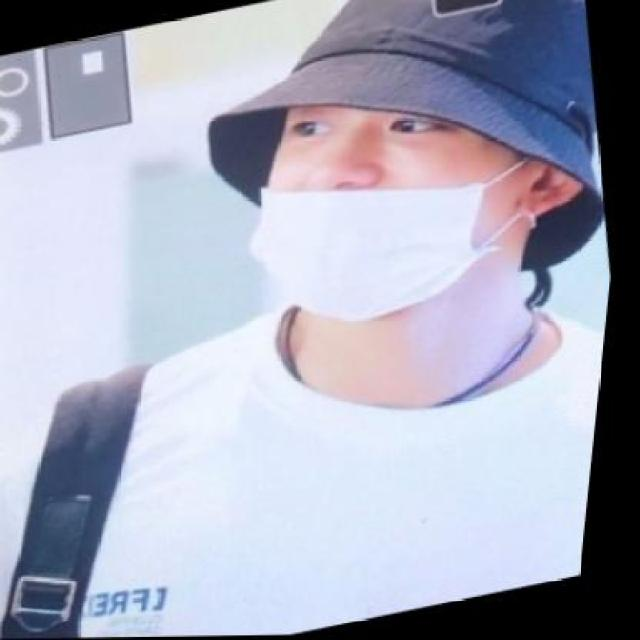hat: (212, 0, 599, 206)
